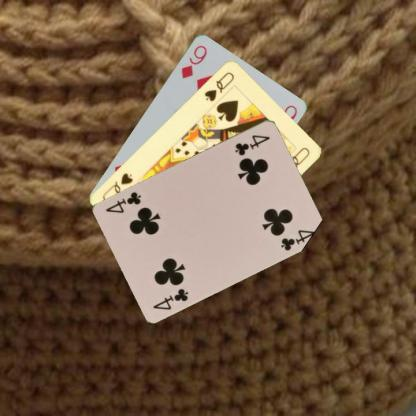4c: (150, 286, 190, 312), (232, 132, 272, 156)
9d: (178, 42, 209, 80)
Qs: (201, 69, 235, 102)
